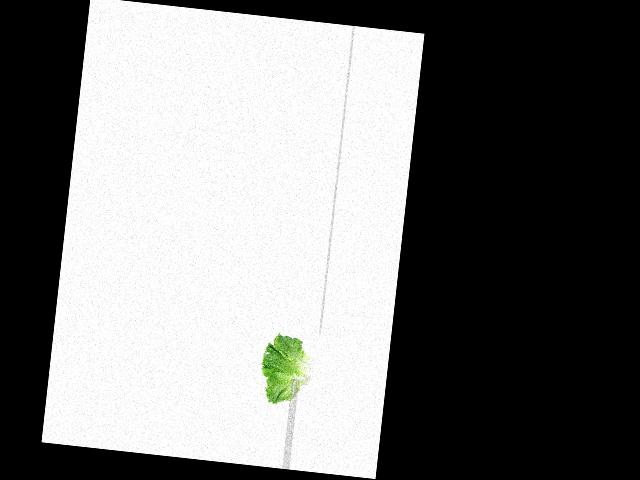lettuce: (259, 332, 316, 404)
